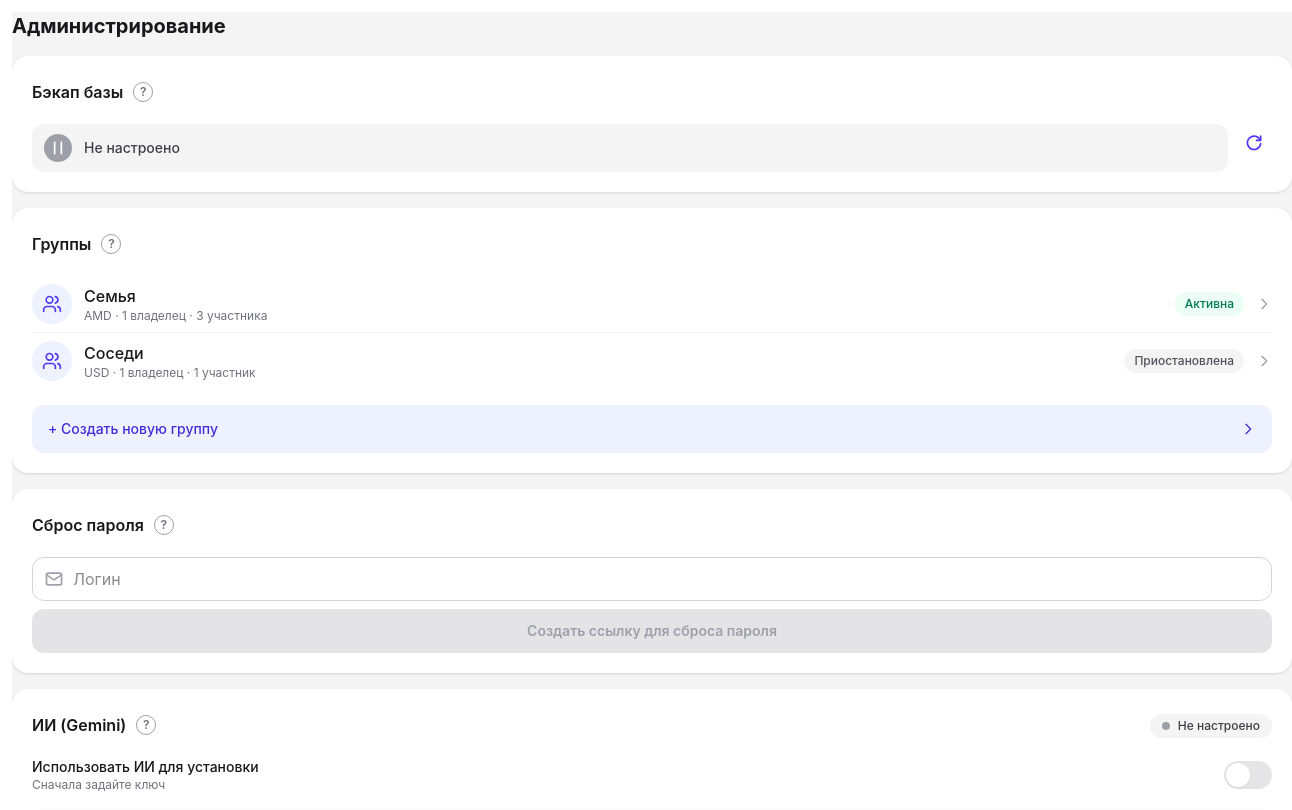
сброс пароля › неизвестный логин: «Пользователь не найден»
The image size is (1292, 810).
Expected: the text "Семья" is shown, [84,286,136,306]
Type "ghost" into the field named "Логин пользователя" at (652, 579), box [32,557,1272,601]
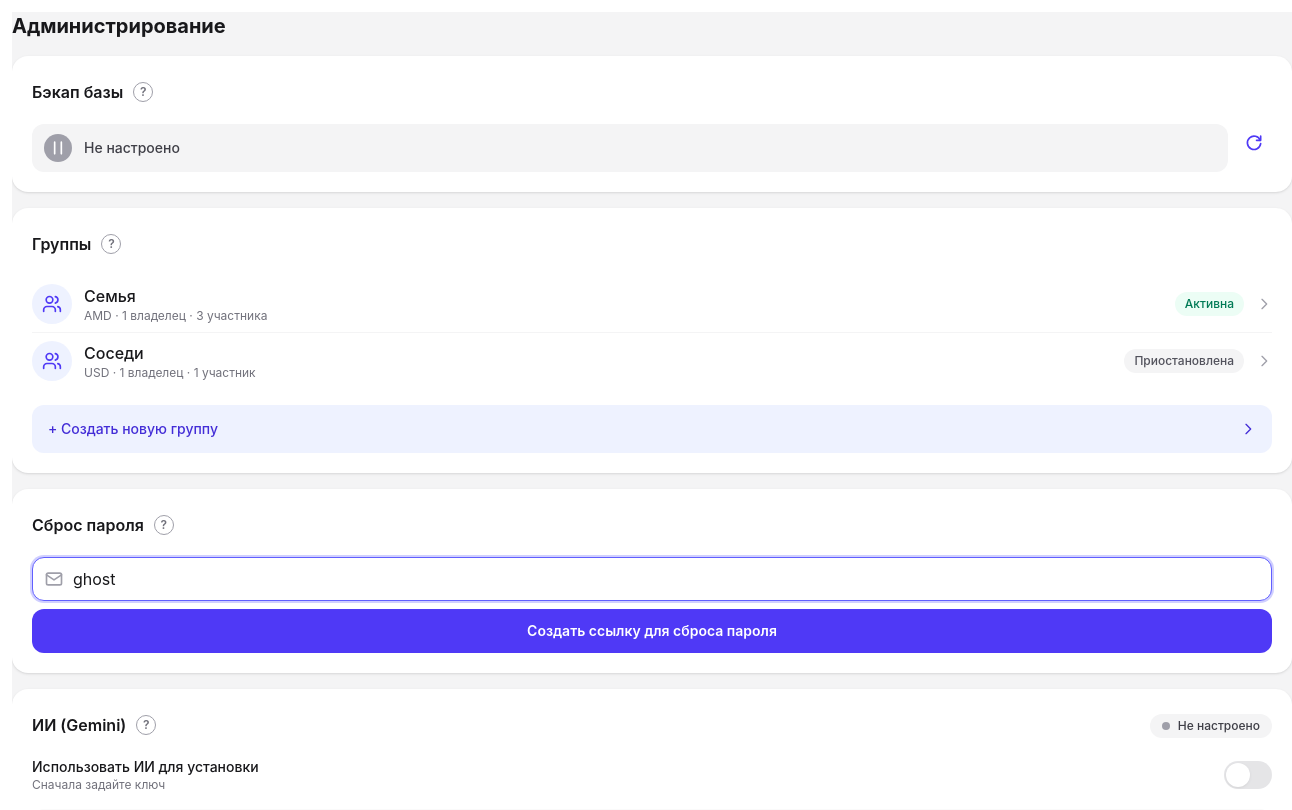
Click the button "Создать ссылку для сброса пароля" at (652, 631), box [32,609,1272,653]
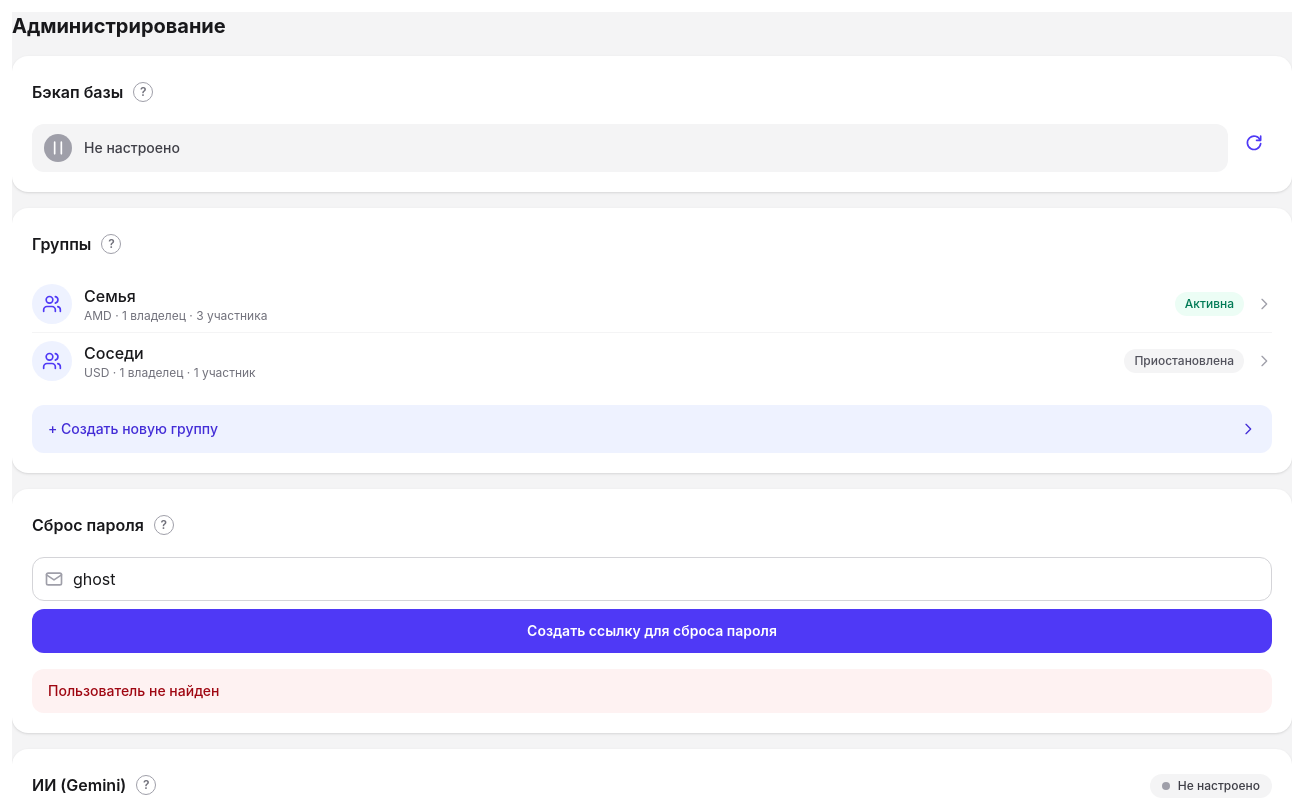
Now the message "Пользователь не найден" is shown, box [32,669,1272,713]
